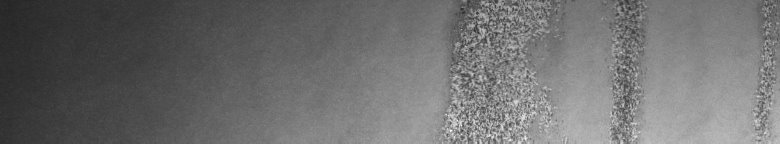hc: (444, 4, 543, 136)
